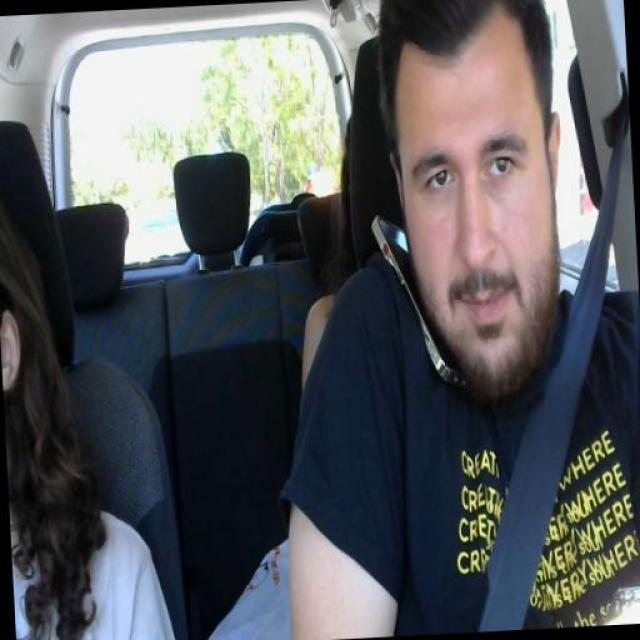phone: (368, 212, 466, 382)
